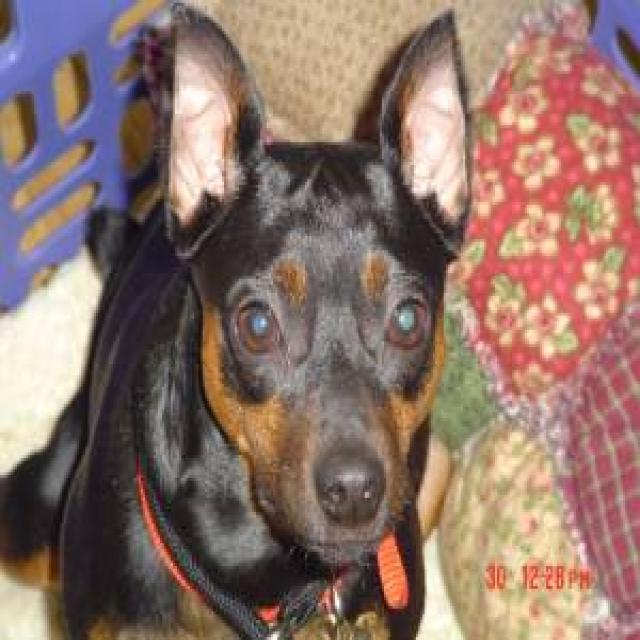dog-miniature_pinscher: (2, 3, 482, 634)
